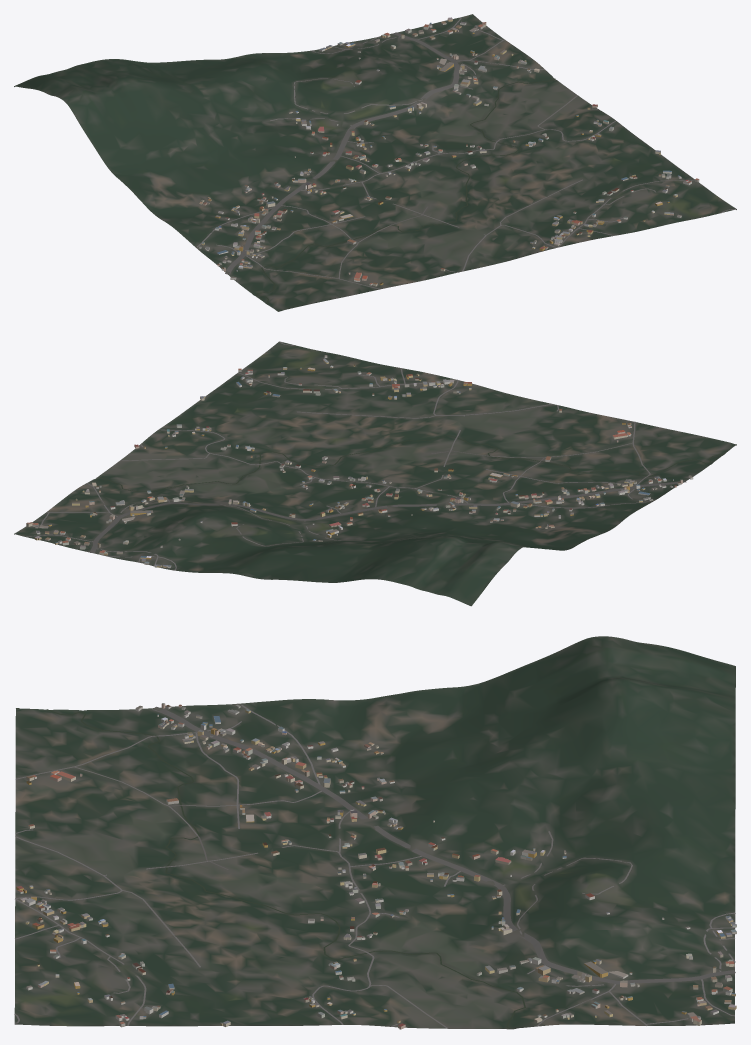
The picture shows the model from 3 angles, top to bottom: view 1: azimuth 30°, elevation 25°; view 2: azimuth 150°, elevation 25°; view 3: azimuth 270°, elevation 25°; orthographic projection. The views are drawn at different scales.
Visible parts, largest first — view 1: ground, buildings, roads, water; view 2: ground, buildings, roads, water; view 3: ground, buildings, roads, water.
Part boxes in pixels (x1,y1,x2,y2): ground: (14,14,736,311); buildings: (198,17,699,286); roads: (197,17,735,289); water: (256,78,555,311); ground: (14,341,736,606); buildings: (26,355,693,567); roads: (26,342,686,570); water: (97,435,736,491); ground: (14,636,735,1029); buildings: (16,703,736,1029); roads: (14,705,735,1028); water: (16,708,525,1028).
Size of the model in its own units: 1416 by 201 by 1408.
